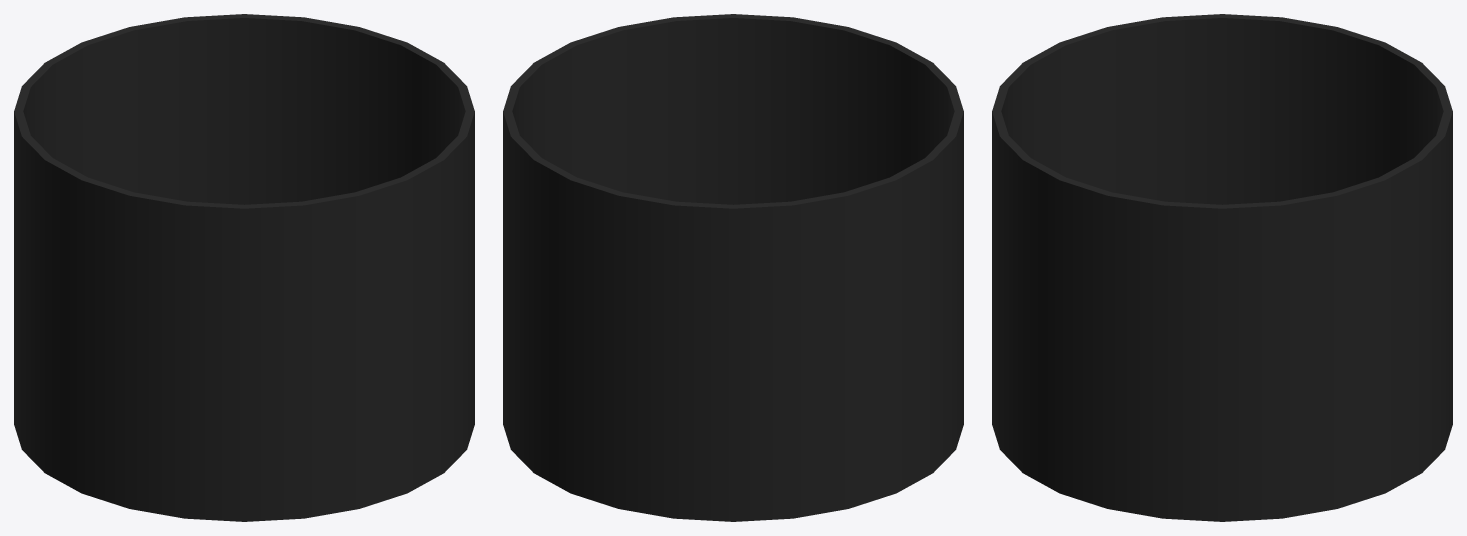
Rendered from CLV_2_Engine_1_Fairing.obj.
The picture shows the model from 3 angles, left to right: view 1: azimuth 30°, elevation 25°; view 2: azimuth 150°, elevation 25°; view 3: azimuth 270°, elevation 25°; orthographic projection.
Parts seen in each view (by area): view 1: CLV_2_Engine_1_Fairing; view 2: CLV_2_Engine_1_Fairing; view 3: CLV_2_Engine_1_Fairing.
Part boxes in pixels (x1,y1,x2,y2): CLV_2_Engine_1_Fairing: (14, 14, 474, 521); CLV_2_Engine_1_Fairing: (503, 14, 963, 521); CLV_2_Engine_1_Fairing: (992, 14, 1452, 521).
Bounding box in the file's own units: 1.25 × 0.9375 × 1.25.
